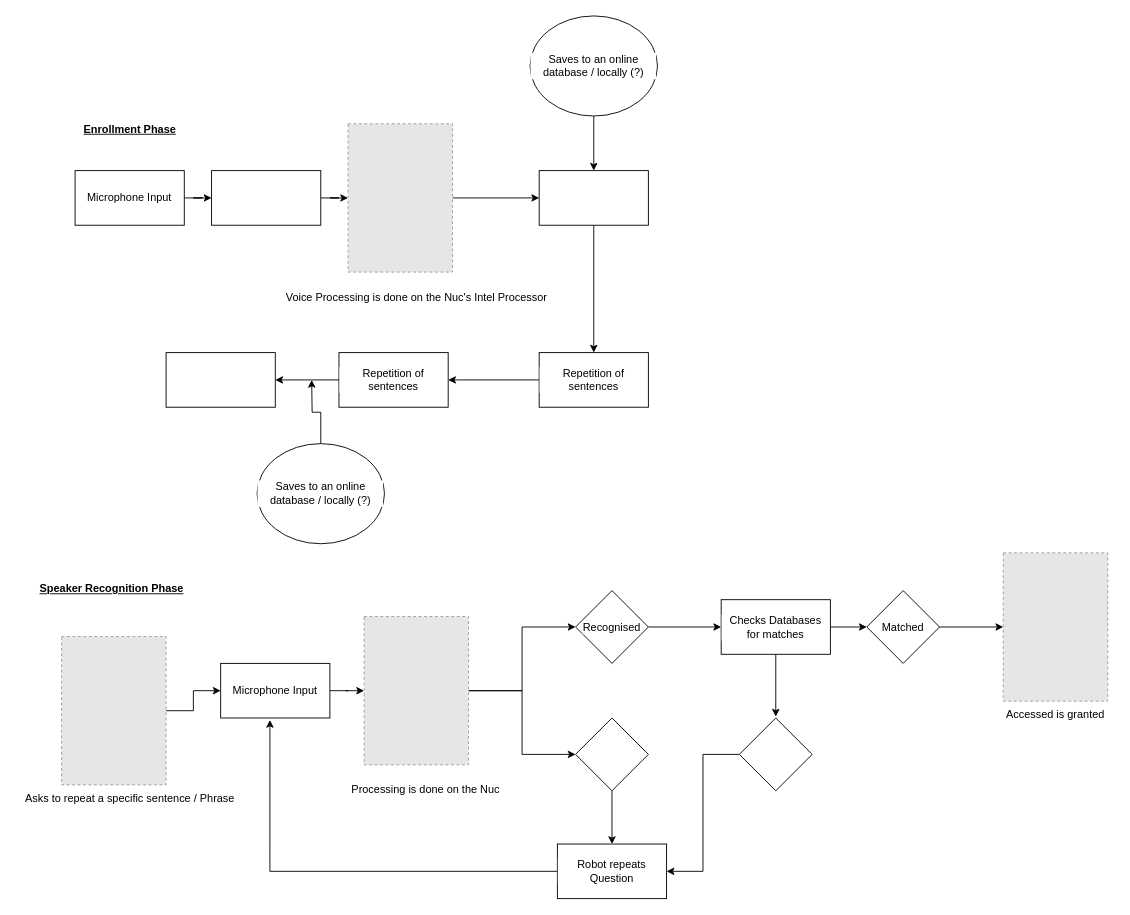
This 1130x915 diagram has some shape labels left out. Grey dashed boxes stand in for pictures. The shapes that lost their labels are listed below. From the top down, each one's centre as x and y in pixels, then its label:
point 266,197: First Pass Filtration (For Ambient noise)
point 593,197: Sample Voice recognised
point 220,379: Speaker Verification (Name)
point 611,754: Not Recognised
point 775,754: No Matches
